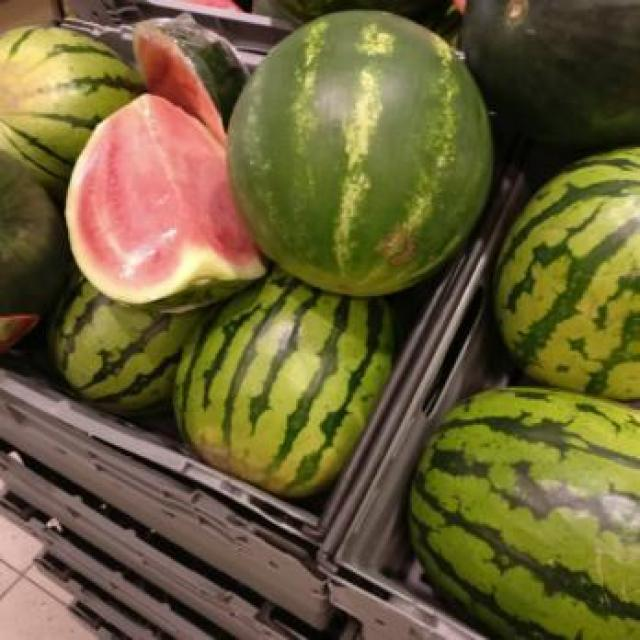Watermelon: (232, 4, 486, 286), (416, 379, 638, 639), (177, 285, 396, 489), (68, 101, 263, 305), (499, 140, 639, 405), (42, 276, 208, 412), (0, 17, 147, 164)
